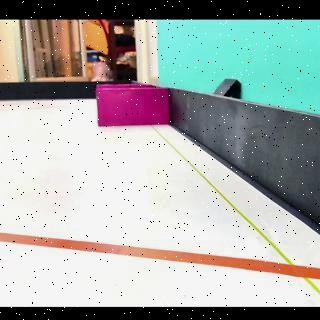xparking: (98, 90, 166, 125)
